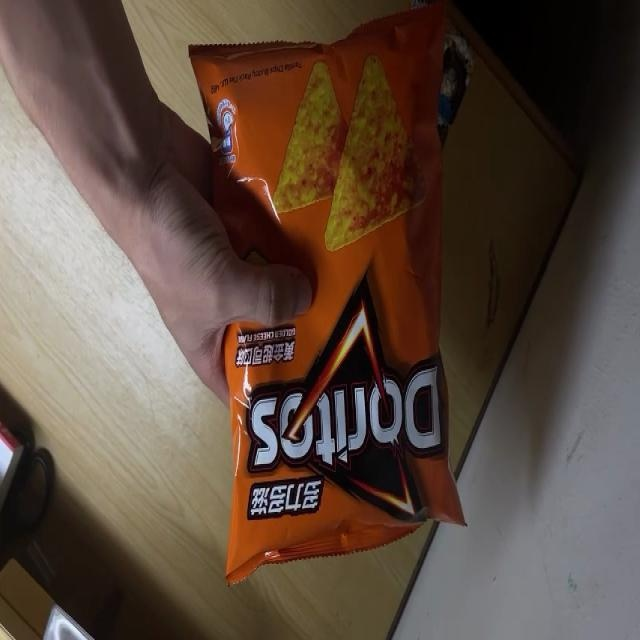Doritos: (187, 0, 470, 586)
